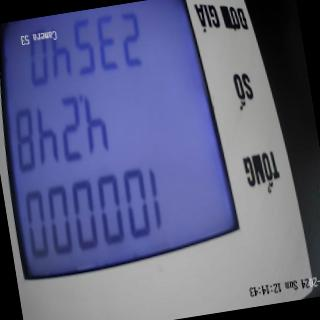screen: (0, 0, 249, 296)
